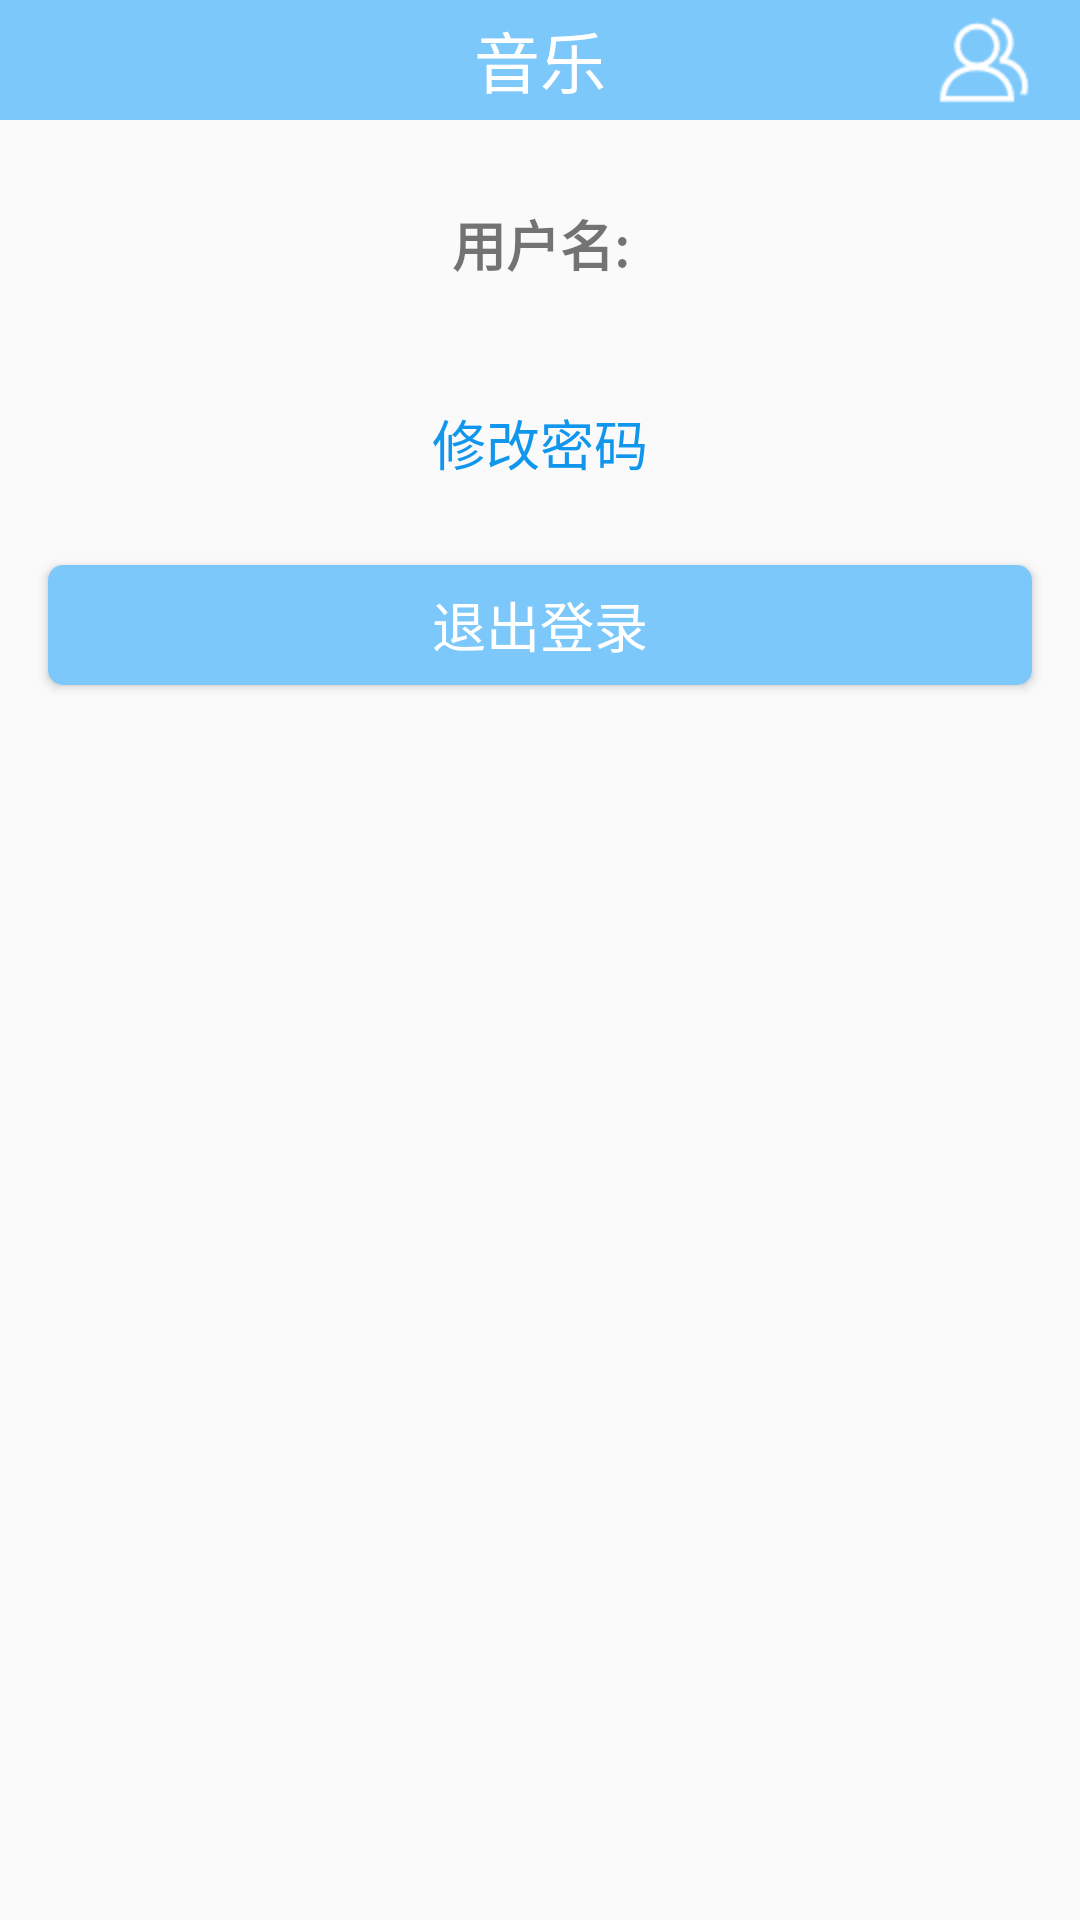

Named icons in this screenshot (1080x1920) and their bounding boxes, (x1, y1, x2, y2):
user: (939, 18, 1029, 103)
